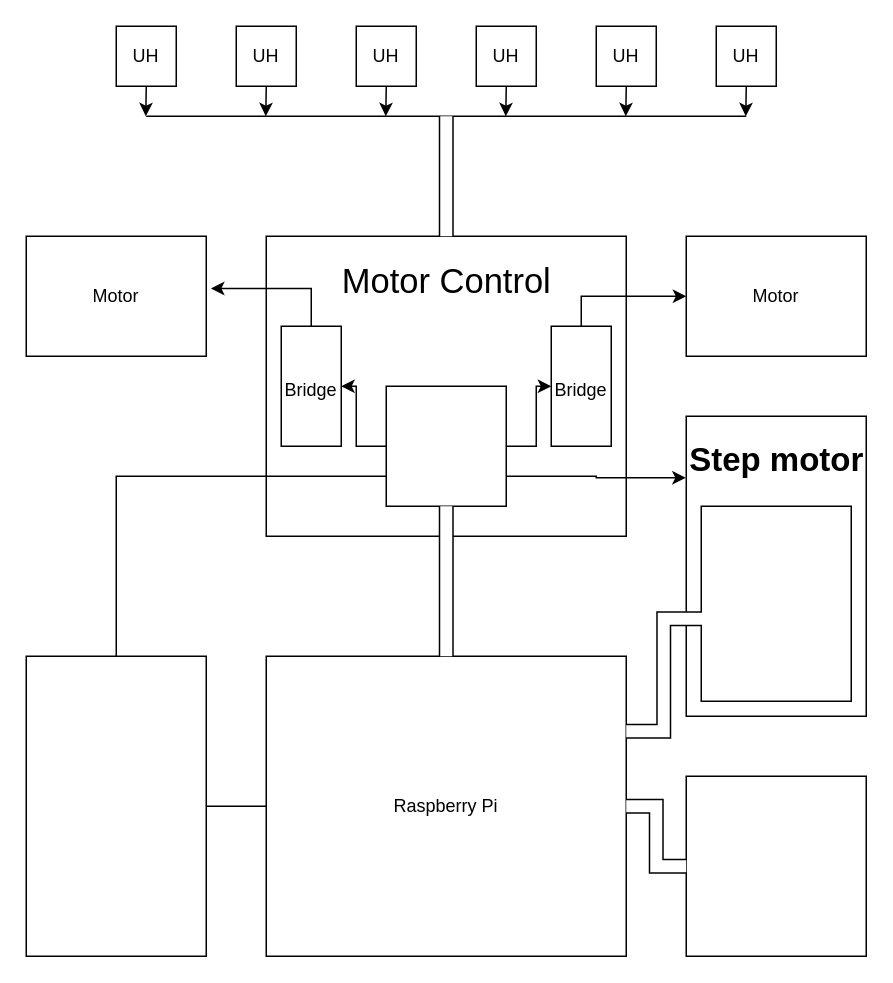
The diagram is 893 pixels wide and 983 high, and some of its shapes have lost their labels. Each missing label, with the centre of its shape:
"Battery management" goes at (x=115, y=805).
"Camera" goes at (x=775, y=603).
"STM32" goes at (x=445, y=445).
"WiFi" goes at (x=775, y=865).
